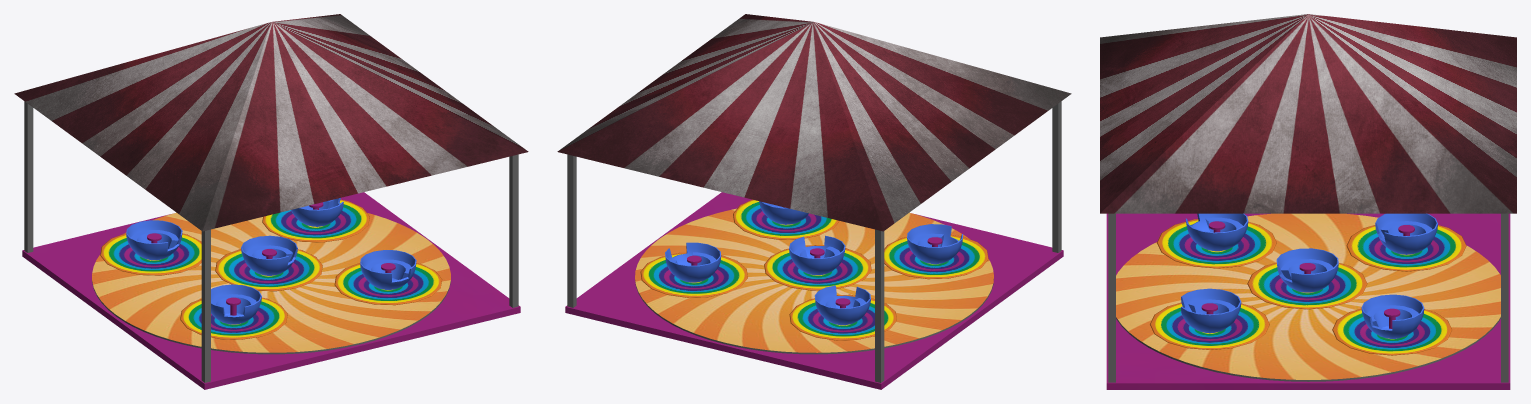
The model's file is ETC0210015.fbx.
The picture shows the model from 3 angles, left to right: view 1: azimuth 30°, elevation 25°; view 2: azimuth 150°, elevation 25°; view 3: azimuth 270°, elevation 25°; orthographic projection. The views are drawn at different scales.
Parts seen in each view (by area): view 1: smETC0210015; view 2: smETC0210015; view 3: smETC0210015.
Part boxes in pixels (x1,y1,x2,y2): smETC0210015: [14, 14, 528, 389]; smETC0210015: [557, 14, 1071, 389]; smETC0210015: [1100, 14, 1516, 389].
Bounding box in the file's own units: 1337 × 1028 × 1337.
1 material, 1 textured.
